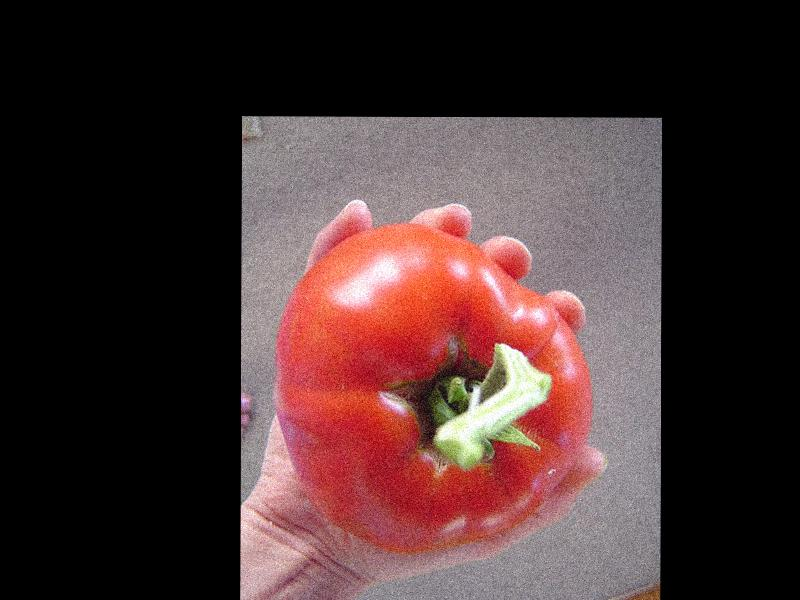Tomato: (274, 223, 594, 552)
